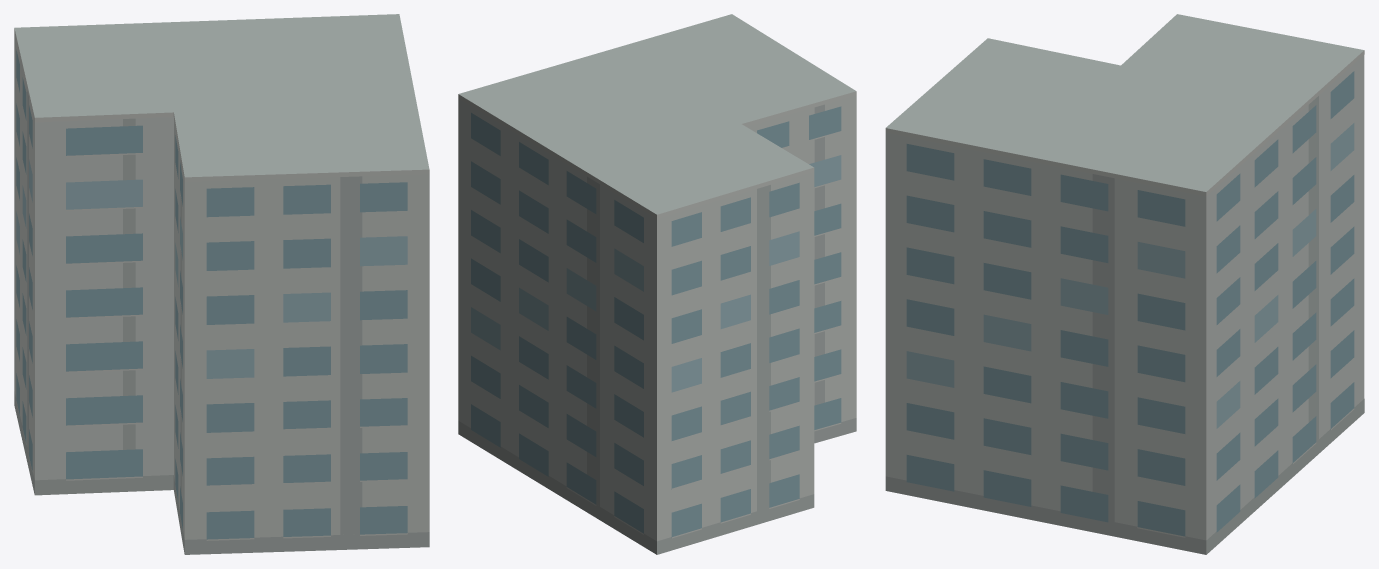
Rendered from survey-upis-32552447.glb.
The picture shows the model from 3 angles, left to right: view 1: azimuth 30°, elevation 25°; view 2: azimuth 150°, elevation 25°; view 3: azimuth 270°, elevation 25°; orthographic projection. The views are drawn at different scales.
Visible parts, largest first — view 1: survey-upis-32552447.tmp; view 2: survey-upis-32552447.tmp; view 3: survey-upis-32552447.tmp.
Boxes of the visible parts, box(x1,y1,x2,y2) form: survey-upis-32552447.tmp: box(14, 14, 429, 554); survey-upis-32552447.tmp: box(458, 14, 856, 554); survey-upis-32552447.tmp: box(885, 14, 1364, 554).
Size of the model in its own units: 20.75 by 19.7 by 23.57.
